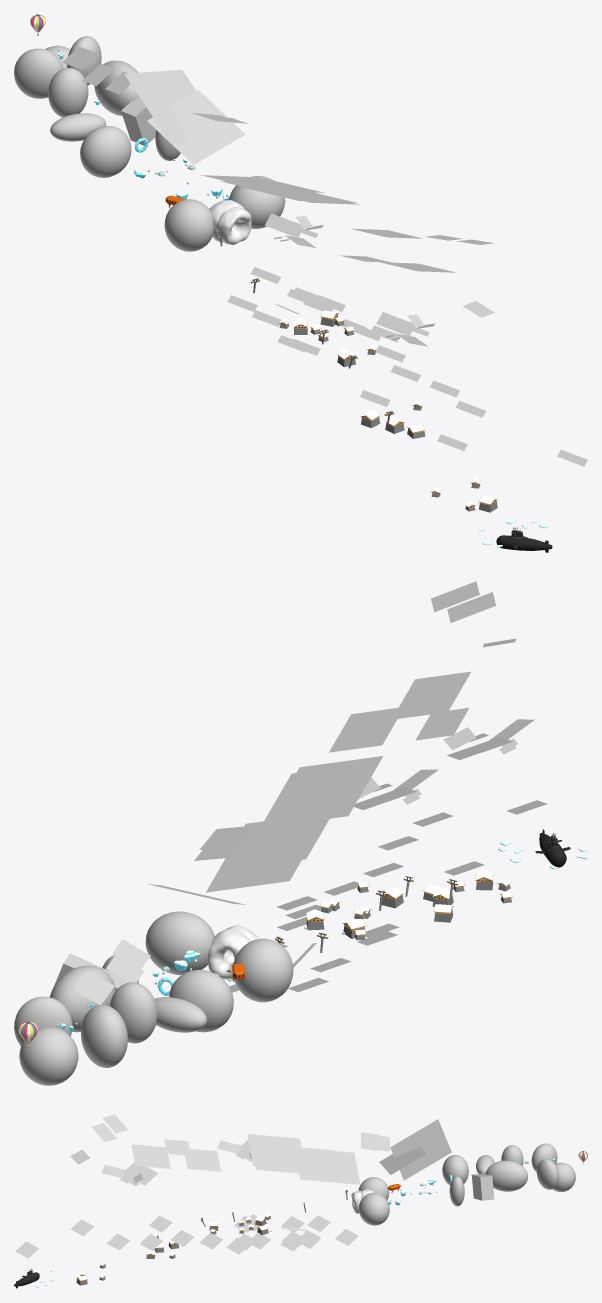
The model's file is ski-resort.glb.
3 views of the same model, one above another, from view 1: azimuth 30°, elevation 25°; view 2: azimuth 150°, elevation 25°; view 3: azimuth 270°, elevation 25° (orthographic). The views are drawn at different scales.
Visible parts, largest first — view 1: Cube (16), Cube (14), Sphere (6), Sphere (7), Sphere (12), Sphere (3), Sphere (8), Sphere (9), Sphere (10), Sphere (11), cave, submarine_001 (+2 smaller); view 2: Cube (11), Cube (10), Sphere (8), Sphere (7), Sphere (4), Sphere (6), Sphere (12), Cube (13), Sphere (3), Cube (12), Sphere (9), Sphere (13) (+8 smaller); view 3: Cube (14) (×2), Cube (11), Cube (10), Sphere (9), Sphere (8), Cube (13), Cube (12), Cube (16), Sphere (6), Sphere (13), Sphere (11), Sphere (4) (+9 smaller).
Boxes of the visible parts, x1,y1,x2,y2 form: Cube (16): (147,90,245,164); Cube (14): (124,69,196,143); Sphere (6): (80,126,131,177); Sphere (7): (164,199,213,251); Sphere (12): (14,48,63,98); Sphere (3): (48,68,88,117); Sphere (8): (229,176,285,228); Sphere (9): (94,60,138,115); Sphere (10): (50,113,106,141); Sphere (11): (121,96,155,145); cave: (216,206,251,244); submarine_001: (496,527,552,552); Cube (11): (206,819,325,892); Cube (10): (265,756,383,827); Sphere (8): (145,911,214,975); Sphere (7): (233,938,293,1002); Sphere (4): (19,1027,78,1085); Sphere (6): (169,969,233,1032); Sphere (12): (81,1005,127,1067); Cube (13): (398,671,470,718); Sphere (3): (110,982,157,1043); Cube (12): (329,707,404,752); Sphere (9): (50,965,115,1032); Sphere (13): (14,996,72,1046); Cube (14) (×2): (164,1119,451,1180); Cube (11): (298,1148,360,1184); Cube (10): (247,1134,305,1170); Sphere (9): (485,1160,527,1191); Sphere (8): (358,1192,389,1225); Cube (13): (131,1144,170,1168); Cube (12): (183,1148,220,1171); Cube (16): (379,1147,426,1174); Sphere (6): (442,1155,468,1185); Sphere (13): (536,1159,558,1189); Sphere (11): (471,1173,494,1200); Sphere (4): (552,1162,575,1191).
Size of the model in its own units: 150 by 241 by 774.
12 materials, 6 textured.
